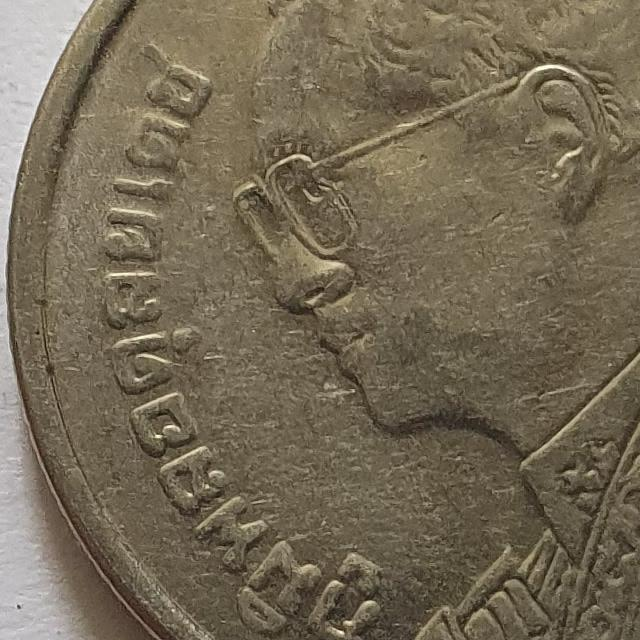1 Bath: (2, 1, 640, 640)
